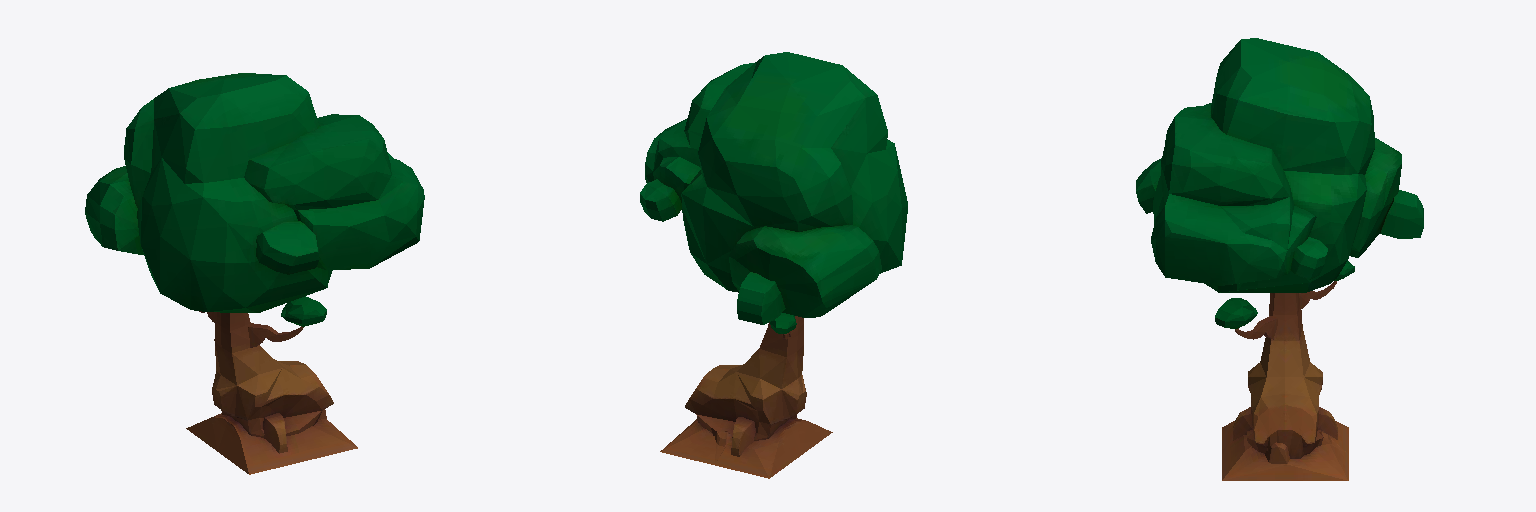
3 views of the same model, side by side, from view 1: azimuth 30°, elevation 25°; view 2: azimuth 150°, elevation 25°; view 3: azimuth 270°, elevation 25° (orthographic).
Visible parts, largest first — view 1: FOL_Foliage_03; view 2: FOL_Foliage_03; view 3: FOL_Foliage_03.
Part boxes in pixels (left/top/right/bottom): FOL_Foliage_03: left=85, top=73, right=424, bottom=474; FOL_Foliage_03: left=640, top=52, right=907, bottom=478; FOL_Foliage_03: left=1136, top=38, right=1423, bottom=480.
Size of the model in its own units: 2.86 by 3.96 by 2.73.
Materials: 1 (1 with a texture image).